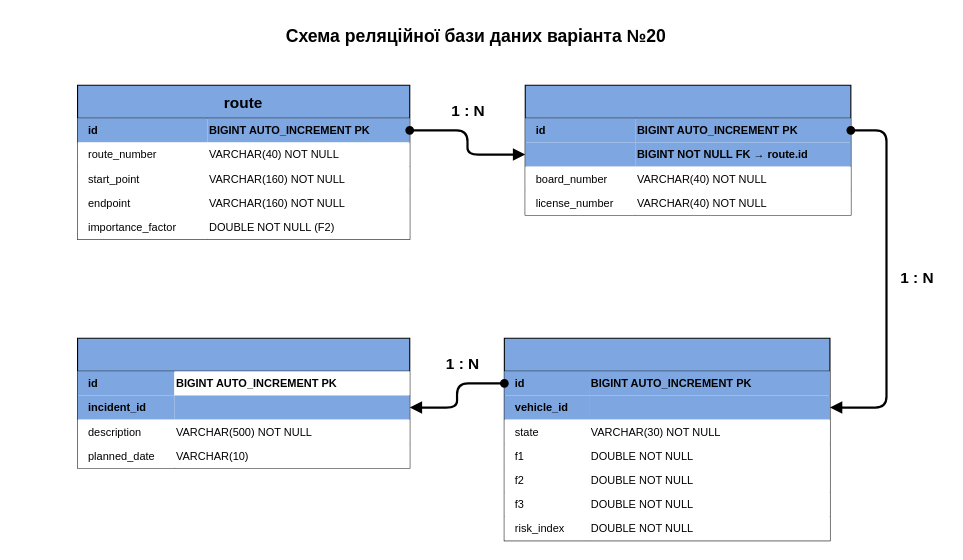
Image size: 963x560. Some labels were removed from this diagram. Each missing label, with the box of its shape:
BIGINT NOT NULL FK → incident.id: (174, 395, 409, 419)
BIGINT NOT NULL FK → vehicle.id: (588, 395, 829, 419)
incident: (503, 337, 830, 541)
response_task: (76, 337, 410, 468)
route_id: (525, 142, 635, 166)
vehicle: (524, 84, 851, 215)
